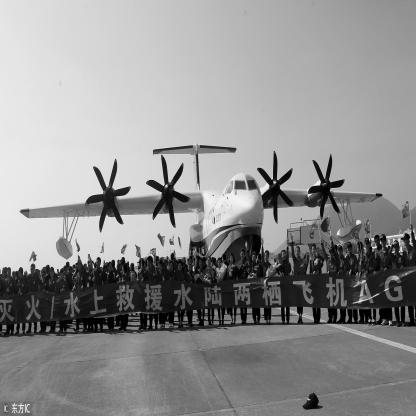AG600: (20, 143, 384, 315)
